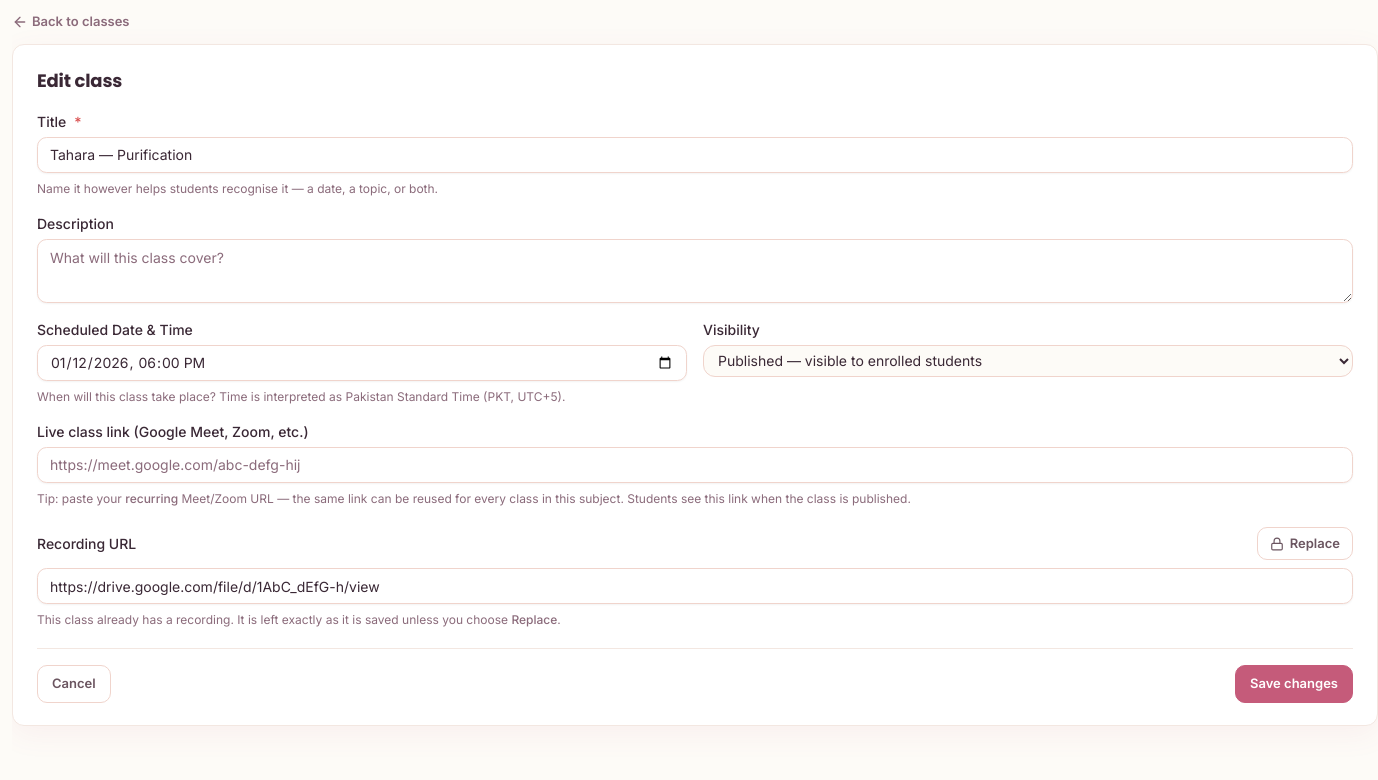
Test: instructor LessonForm — recording field › locks the recording field when the class already has one
The width and height of the screenshot is (1378, 780).
Expected: the field labelled "Recording URL" holds "https://drive.google.com/file/d/1AbC_dEfG-h/view", [37,568,1353,604]
Expected: the text "left exactly as it is saved unless you choose" is shown, [37,612,508,627]
Unlocking is deliberate, and says what it costs.
Click the button "Replace".
click(1305, 544)  # box [1257,527,1353,560]
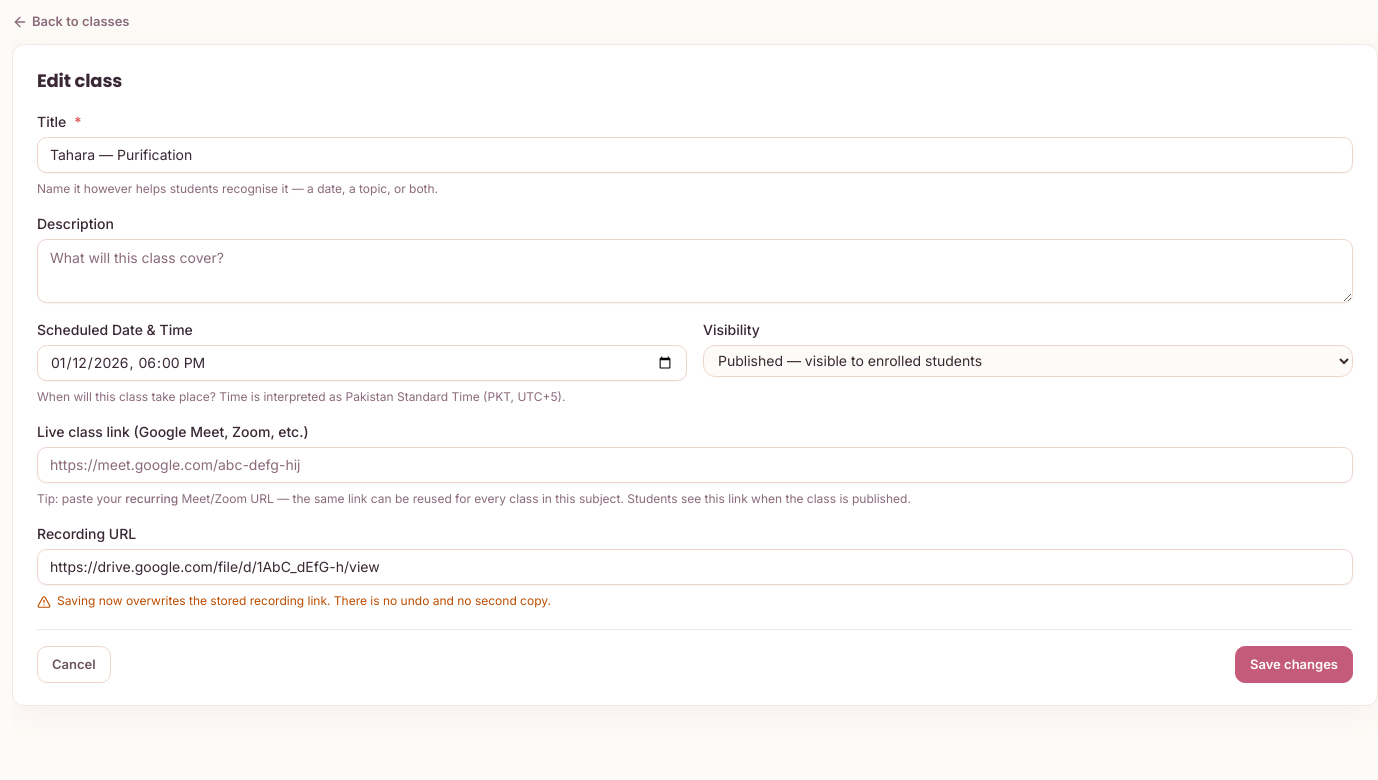
Now the text "overwrites the stored recording link" is shown, box [57,593,551,608]
